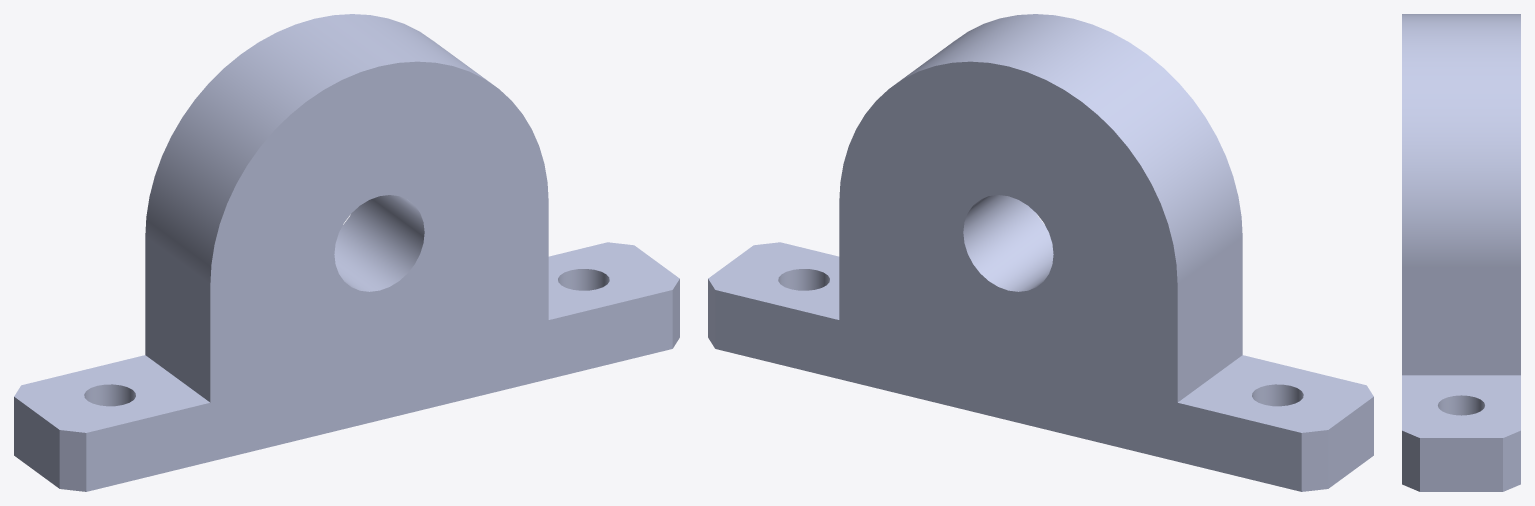
File: body11_visual.obj
3 views of the same model, side by side, from view 1: azimuth 30°, elevation 25°; view 2: azimuth 150°, elevation 25°; view 3: azimuth 270°, elevation 25° (orthographic). The views are drawn at different scales.
Parts seen in each view (by area): view 1: Body11; view 2: Body11; view 3: Body11.
Part boxes in pixels (x1,y1,x2,y2): Body11: [14, 14, 679, 491]; Body11: [708, 14, 1373, 491]; Body11: [1402, 14, 1520, 491].
Bounding box in the file's own units: 5.5 × 3 × 1.
